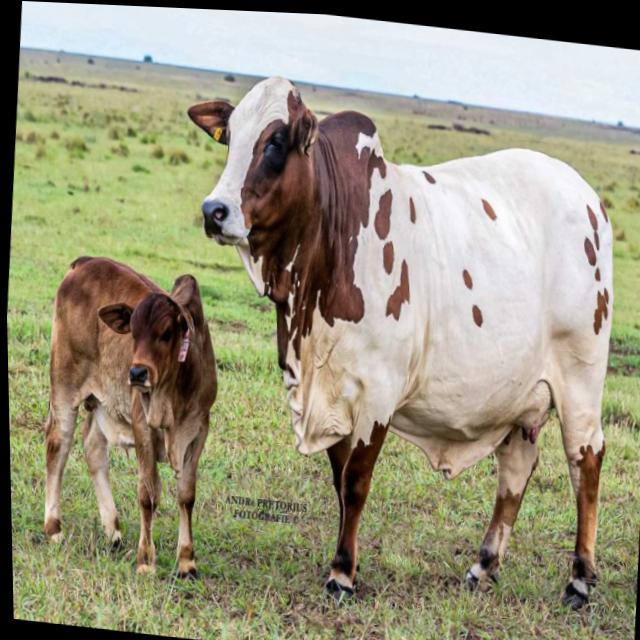cowFace: (161, 51, 334, 274), (89, 258, 210, 413)
